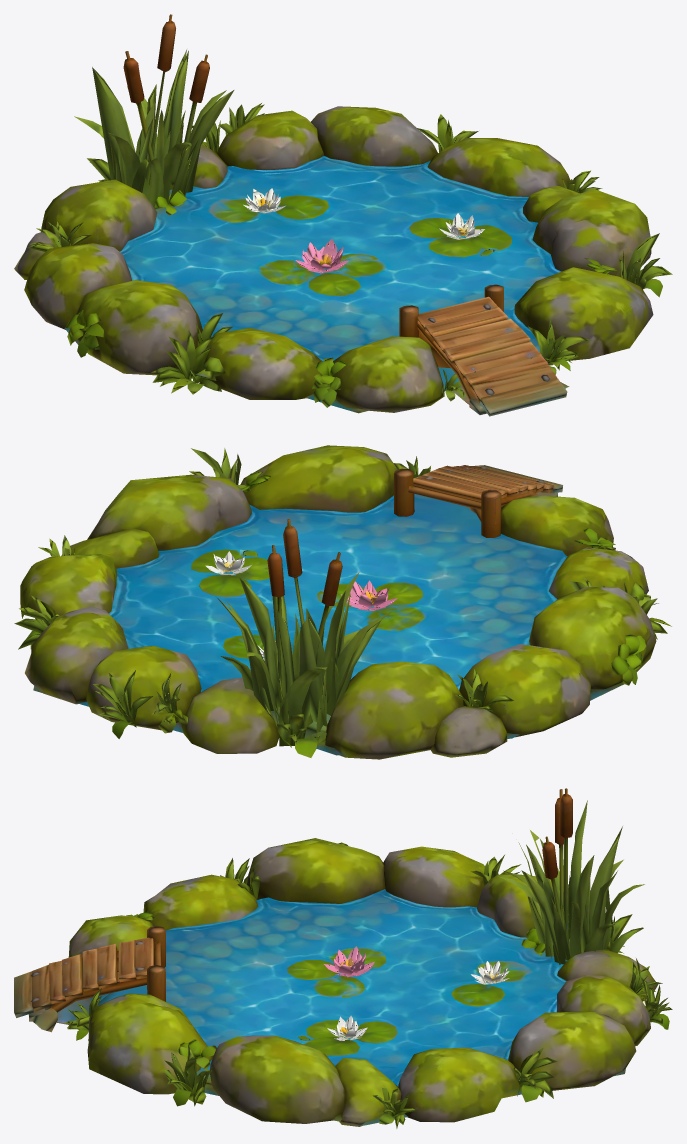
Rendered from enclos_bassin.glb.
3 views of the same model, one above another, from view 1: azimuth 30°, elevation 25°; view 2: azimuth 150°, elevation 25°; view 3: azimuth 270°, elevation 25° (orthographic). The views are drawn at different scales.
Parts seen in each view (by area): view 1: geometry_0; view 2: geometry_0; view 3: geometry_0.
Part boxes in pixels (box(x1,y1,x2,y2)): geometry_0: box(14, 14, 672, 416); geometry_0: box(14, 445, 671, 759); geometry_0: box(14, 788, 672, 1128).
Size of the model in its own units: 0.8867 by 0.3067 by 0.958.
Materials: 1 (1 with a texture image).
